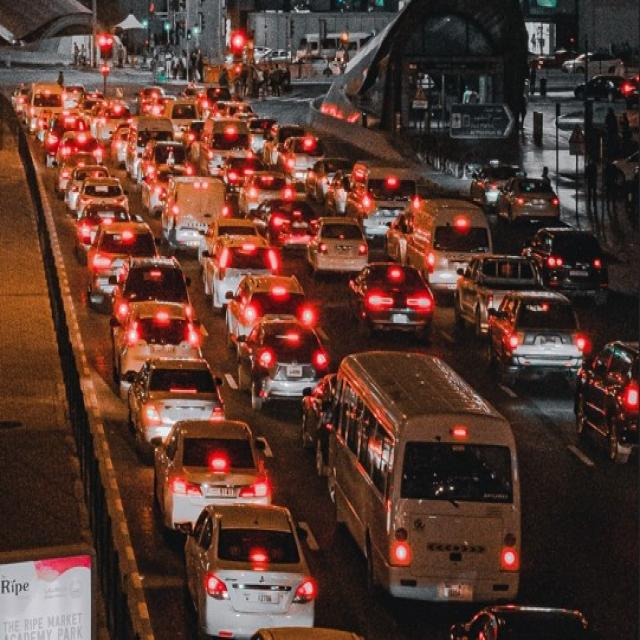bus: (328, 350, 521, 607)
car: (176, 503, 317, 639), (152, 419, 272, 530), (487, 288, 584, 384), (127, 358, 226, 448), (407, 198, 494, 293), (573, 341, 640, 464), (111, 302, 201, 389), (237, 324, 328, 407), (226, 274, 312, 353), (347, 261, 434, 338), (455, 254, 538, 334), (522, 229, 607, 305), (109, 258, 194, 328), (85, 223, 160, 302), (347, 160, 419, 240), (203, 237, 281, 310), (163, 178, 230, 254), (306, 217, 369, 275), (247, 198, 321, 246), (495, 177, 560, 226), (76, 205, 135, 258), (198, 117, 250, 176), (125, 115, 174, 177), (238, 170, 295, 214), (278, 136, 328, 184), (142, 166, 192, 212), (78, 177, 130, 220), (305, 157, 351, 203), (470, 165, 518, 208), (65, 167, 111, 209), (216, 156, 264, 193), (263, 124, 304, 166), (56, 130, 102, 167), (386, 212, 418, 265), (325, 169, 357, 216), (563, 50, 623, 75), (576, 74, 626, 101), (96, 106, 133, 140)
